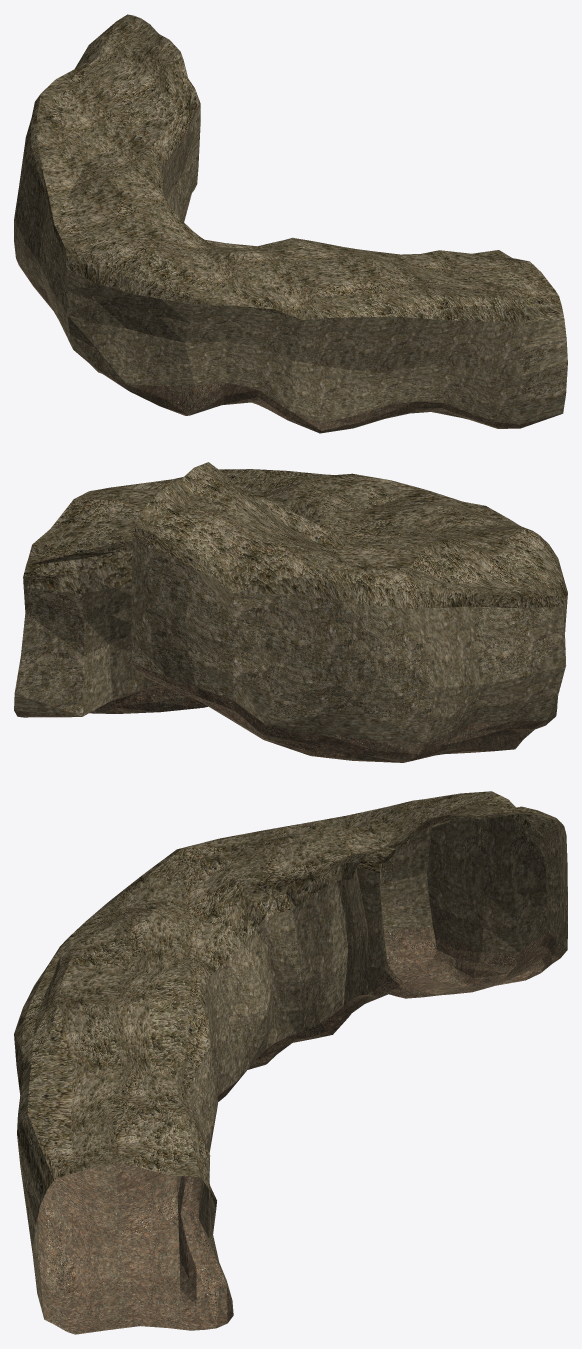
Rendered from thm_tato_fort_tusken_r6_mesh_r6.fbx.
3 renders of one model, top to bottom at view 1: azimuth 30°, elevation 25°; view 2: azimuth 150°, elevation 25°; view 3: azimuth 270°, elevation 25°, orthographic. The views are drawn at different scales.
Visible parts, largest first — view 1: mesh_node; view 2: mesh_node; view 3: mesh_node.
Part boxes in pixels (box(x1,y1,x2,y2)): mesh_node: box(14, 14, 567, 433); mesh_node: box(14, 462, 567, 762); mesh_node: box(14, 791, 567, 1334).
Size of the model in its own units: 23.56 by 17.31 by 22.37.
